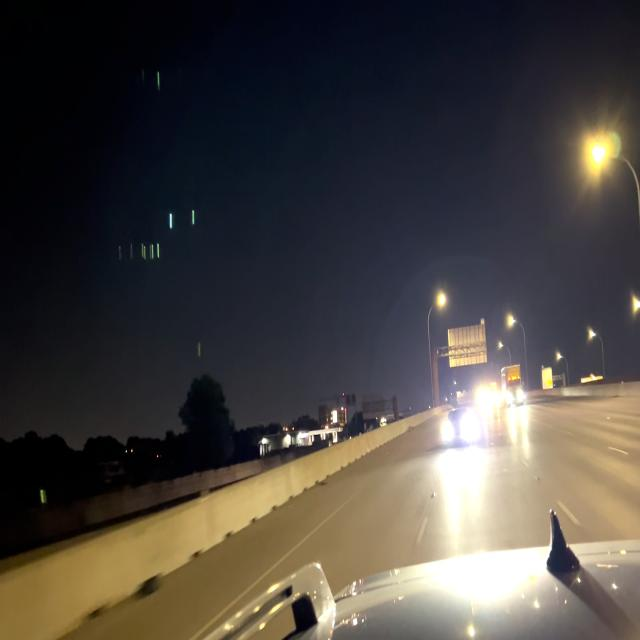back-of-sign: (446, 315, 488, 373), (360, 391, 389, 421)
